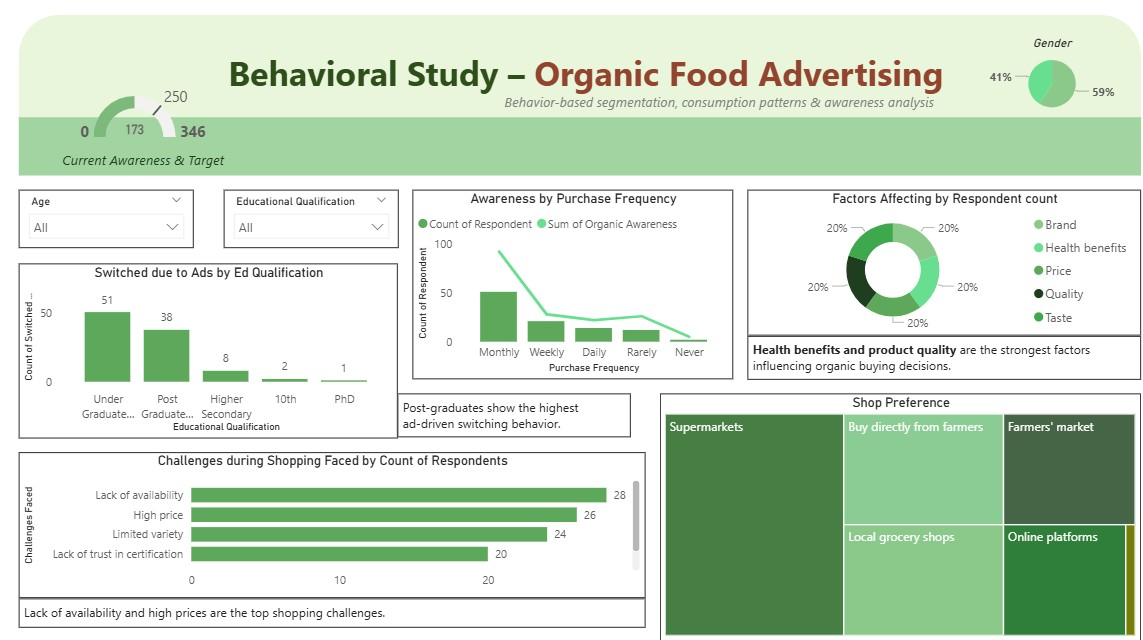

The page's visual inventory and layout, read from the dashboard file:
{"tool":"powerbi","page":{"name":"Executive Overview","canvas":[1280,720],"ordinal":0},"visuals":[{"type":"shape","box":[32,32,1232,160],"z":0},{"type":"shape","box":[32,144,1232,64],"z":1000},{"type":"slicer","fields":{"Values":["Behavioral Study – Organic Food Advertising - main.Age"]},"box":[32,224,192,64],"z":2000},{"type":"slicer","fields":{"Values":["Behavioral Study – Organic Food Advertising - main.Educational Qualification"]},"box":[256,224,192,64],"z":3000},{"type":"pieChart","title":"Gender ","fields":{"Category":["Behavioral Study – Organic Food Advertising - main.Gender"],"Y":["CountNonNull(Behavioral Study – Organic Food Advertising - main.Gender)"]},"box":[1053.1,55,227.2,90.6],"z":4000},{"type":"textbox","box":[256,64,848,64],"z":5000},{"type":"lineStackedColumnComboChart","title":"Awareness by Purchase Frequency","fields":{"Y":["CountNonNull(Behavioral Study – Organic Food Advertising - main.Name)"],"Y2":["Sum(Behavioral Study – Organic Food Advertising - main.Organic Awareness)"],"Category":["Behavioral Study – Organic Food Advertising - main.Purchase_Frequency"]},"box":[464,224,352,208],"z":6000},{"type":"donutChart","title":"Factors Affecting by Respondent count","fields":{"Category":["Duplicate Data for ranks.Factor"],"Y":["CountNonNull(Duplicate Data for ranks.Name)"]},"box":[832,224,432,160],"z":7000},{"type":"treemap","title":"Shop Preference","fields":{"Group":["Behavioral Study – Organic Food Advertising - main.Shop_Preference"],"Values":["CountNonNull(Behavioral Study – Organic Food Advertising - main.Shop_Preference)"]},"box":[736,448,528,272],"z":8000},{"type":"gauge","fields":{"Y":["Sum(Behavioral Study – Organic Food Advertising - main.Organic Awareness)"],"TargetValue":["Behavioral Study – Organic Food Advertising - main.Awareness Goal"]},"box":[48,96,240,80],"z":9000},{"type":"columnChart","title":"Switched due to Ads by Ed Qualification","fields":{"Y":["CountNonNull(Behavioral Study – Organic Food Advertising - main.Switched_due_to_Ads)"],"Category":["Behavioral Study – Organic Food Advertising - main.Educational Qualification"]},"box":[32,304,416,192],"z":10000},{"type":"barChart","title":"Challenges during Shopping Faced by Count of Respondents","fields":{"Y":["CountNonNull(Behavioral Study – Organic Food Advertising - main.Name)"],"Category":["Behavioral Study – Organic Food Advertising - main.Challenges_Faced.1"]},"box":[32,512,688,160],"z":11000},{"type":"textbox","box":[48,176,240,48],"z":12000},{"type":"textbox","box":[832,384,432,48],"z":13000},{"type":"textbox","box":[448,448,256,48],"z":14000},{"type":"textbox","box":[32,672,688,32],"z":15000},{"type":"textbox","box":[560,112,512,32],"z":16000}]}

Visuals, with their boxes in screenshot pixels (x1, y1, x2, y2), scaled from the page's 1280x720 canvas onto the 1143x640 screenshot:
shape: pyautogui.locateOnScreen(29, 28, 1129, 171)
shape: pyautogui.locateOnScreen(29, 128, 1129, 185)
slicer - Behavioral Study – Organic Food Advertising - main.Age: pyautogui.locateOnScreen(29, 199, 200, 256)
slicer - Behavioral Study – Organic Food Advertising - main.Educational Qualification: pyautogui.locateOnScreen(229, 199, 400, 256)
"Gender " pieChart: pyautogui.locateOnScreen(940, 49, 1142, 129)
textbox: pyautogui.locateOnScreen(229, 57, 986, 114)
"Awareness by Purchase Frequency" lineStackedColumnComboChart: pyautogui.locateOnScreen(414, 199, 729, 384)
"Factors Affecting by Respondent count" donutChart: pyautogui.locateOnScreen(743, 199, 1129, 341)
"Shop Preference" treemap: pyautogui.locateOnScreen(657, 398, 1129, 639)
gauge - Sum(Behavioral Study – Organic Food Advertising - main.Organic Awareness) x Behavioral Study – Organic Food Advertising - main.Awareness Goal: pyautogui.locateOnScreen(43, 85, 257, 156)
"Switched due to Ads by Ed Qualification" columnChart: pyautogui.locateOnScreen(29, 270, 400, 441)
"Challenges during Shopping Faced by Count of Respondents" barChart: pyautogui.locateOnScreen(29, 455, 643, 597)
textbox: pyautogui.locateOnScreen(43, 156, 257, 199)
textbox: pyautogui.locateOnScreen(743, 341, 1129, 384)
textbox: pyautogui.locateOnScreen(400, 398, 629, 441)
textbox: pyautogui.locateOnScreen(29, 597, 643, 626)
textbox: pyautogui.locateOnScreen(500, 100, 957, 128)
